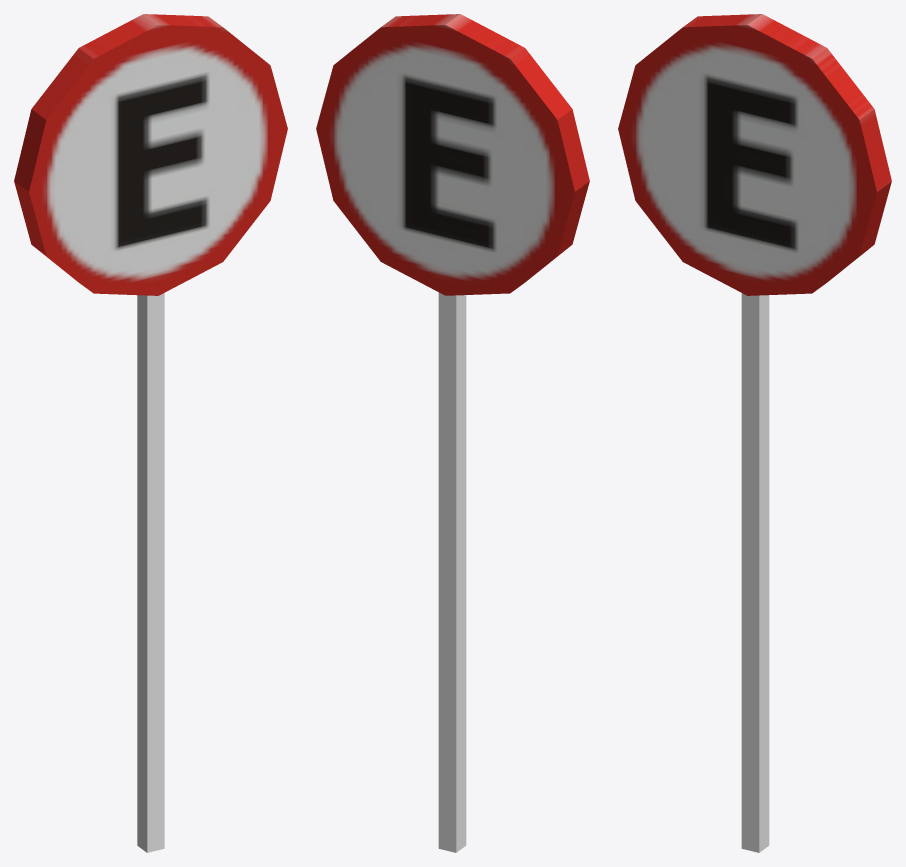
Rendered from PlacaPermitidoEstacionar.fbx.
The picture shows the model from 3 angles, left to right: view 1: azimuth 30°, elevation 25°; view 2: azimuth 150°, elevation 25°; view 3: azimuth 330°, elevation 25°; orthographic projection.
Visible parts, largest first — view 1: Placa-Permitido-Estacionar-6; view 2: Placa-Permitido-Estacionar-6; view 3: Placa-Permitido-Estacionar-6.
Boxes of the visible parts, x1=… form: Placa-Permitido-Estacionar-6: x1=14, y1=14, x2=287, y2=852; Placa-Permitido-Estacionar-6: x1=316, y1=14, x2=589, y2=852; Placa-Permitido-Estacionar-6: x1=618, y1=14, x2=891, y2=852.
Size of the model in its own units: 0.7576 by 2.31 by 0.0758.
